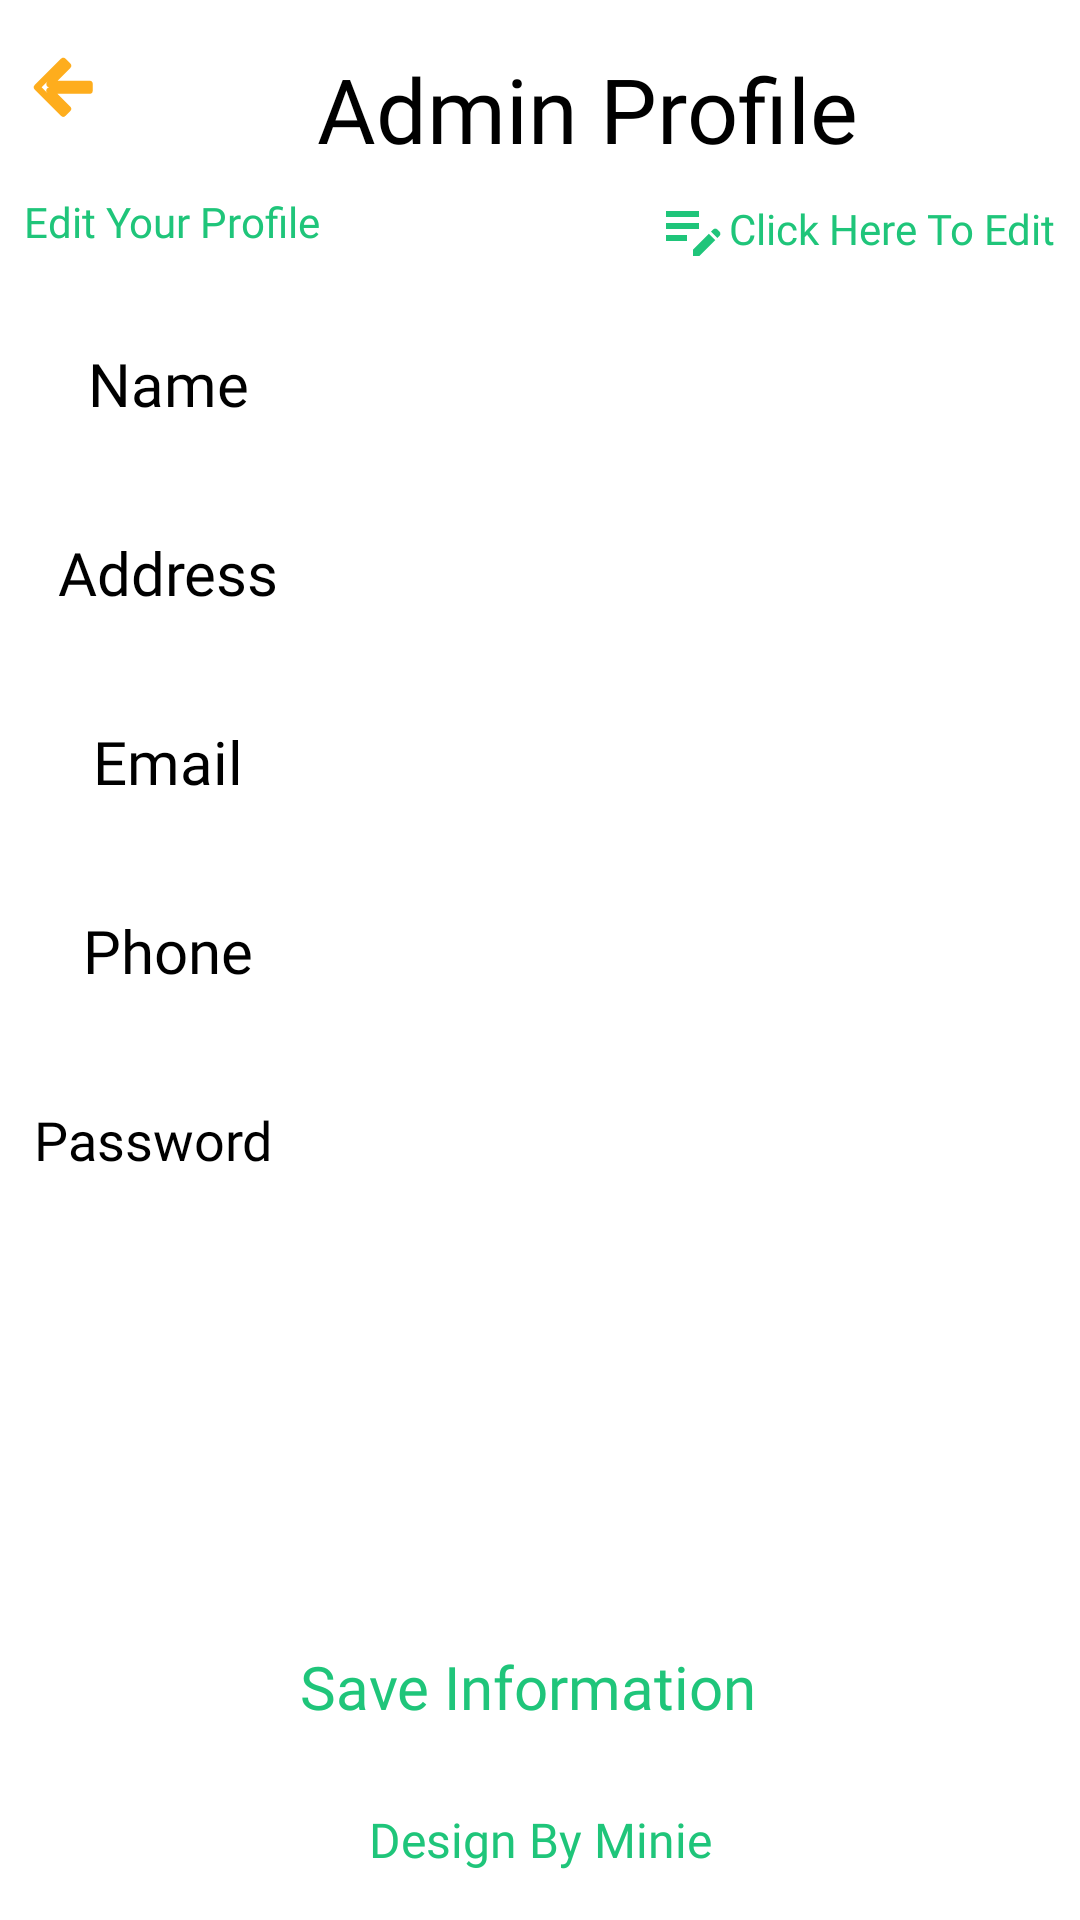

Icon click points for this 1080w x 1920h phone screenshot, format (x=x, y=y):
arrow left: (x=63, y=87)
